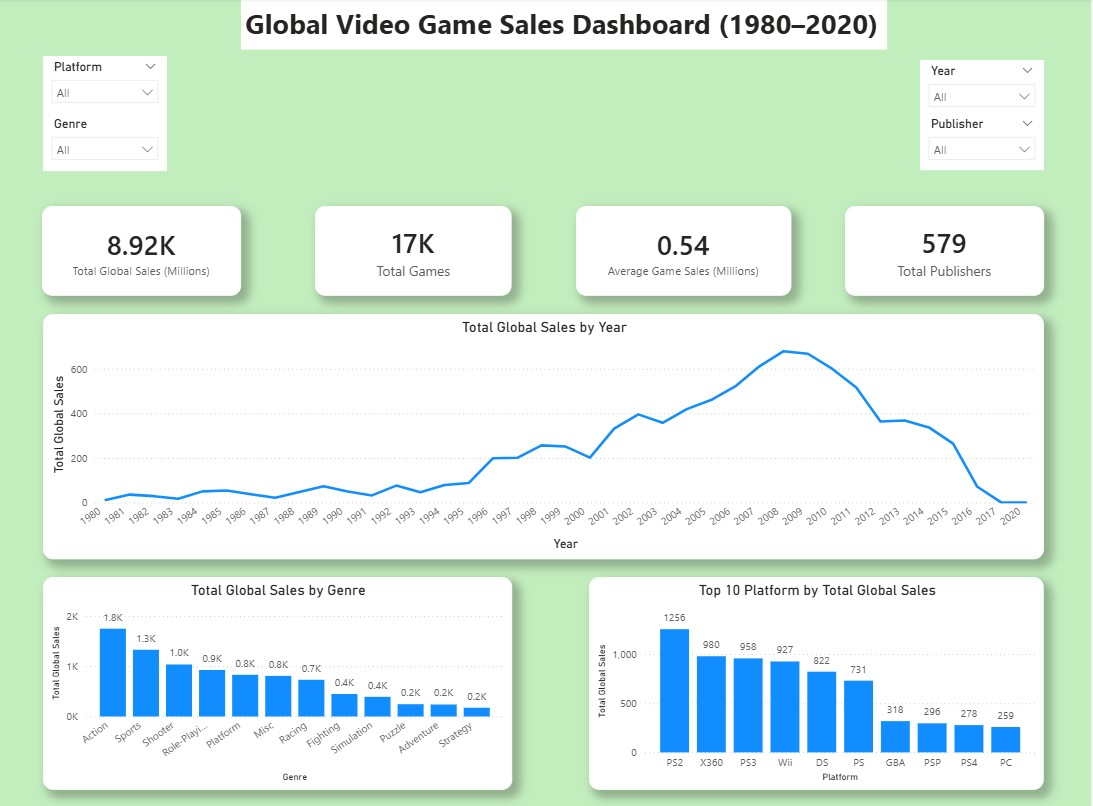

This screenshot's page, from the dashboard's own definition file:
{"tool":"powerbi","page":{"name":"Page 1","canvas":[1280,950],"ordinal":0},"visuals":[{"type":"cardVisual","fields":{"Data":["vgsales.Total_Global_Sales"]},"box":[52.6,243.3,232.8,105.3],"z":0},{"type":"cardVisual","fields":{"Data":["vgsales.Total_Games"]},"box":[372,243.3,230.5,105.3],"z":1000},{"type":"cardVisual","fields":{"Data":["vgsales.Average_Global_Sales"]},"box":[677.4,243.3,251.5,105.3],"z":2000},{"type":"cardVisual","fields":{"Data":["vgsales.Total_Publishers"]},"box":[992.1,243.3,232.8,105.3],"z":3000},{"type":"textbox","box":[285.5,2.3,755.8,58.5],"z":4000},{"type":"columnChart","fields":{"Category":["vgsales.Genre"],"Y":["vgsales.Total_Global_Sales"]},"box":[53.8,677.4,548.7,249.2],"z":5000},{"type":"columnChart","title":"Top 10 Platform by Total Global Sales ","fields":{"Category":["vgsales.Platform"],"Y":["vgsales.Total_Global_Sales"]},"box":[692.6,677.4,532.3,249.2],"z":6000},{"type":"lineChart","fields":{"Y":["vgsales.Total_Global_Sales"],"Category":["vgsales.Year"]},"box":[53.8,369.7,1171.1,286.6],"z":7000},{"type":"slicer","fields":{"Values":["vgsales.Year"]},"box":[1079.9,72.5,145.1,65.5],"z":8000},{"type":"slicer","fields":{"Values":["vgsales.Platform"]},"box":[53.8,67.9,145.1,70.2],"z":9000},{"type":"slicer","fields":{"Values":["vgsales.Genre"]},"box":[53.8,134.5,145.1,67.9],"z":10000},{"type":"slicer","fields":{"Values":["vgsales.Publisher"]},"box":[1079.9,134.5,145.1,66.7],"z":11000}]}

Visuals, with their boxes in screenshot pixels (x1, y1, x2, y2), scaled from the page's 1280x950 canvas onto the 1093x806 screenshot:
cardVisual - vgsales.Total_Global_Sales: box=[45, 206, 244, 296]
cardVisual - vgsales.Total_Games: box=[318, 206, 514, 296]
cardVisual - vgsales.Average_Global_Sales: box=[578, 206, 793, 296]
cardVisual - vgsales.Total_Publishers: box=[847, 206, 1046, 296]
textbox: box=[244, 2, 889, 52]
columnChart - vgsales.Genre x vgsales.Total_Global_Sales: box=[46, 575, 514, 786]
"Top 10 Platform by Total Global Sales " columnChart: box=[591, 575, 1046, 786]
lineChart - vgsales.Total_Global_Sales x vgsales.Year: box=[46, 314, 1046, 557]
slicer - vgsales.Year: box=[922, 62, 1046, 117]
slicer - vgsales.Platform: box=[46, 58, 170, 117]
slicer - vgsales.Genre: box=[46, 114, 170, 172]
slicer - vgsales.Publisher: box=[922, 114, 1046, 171]
